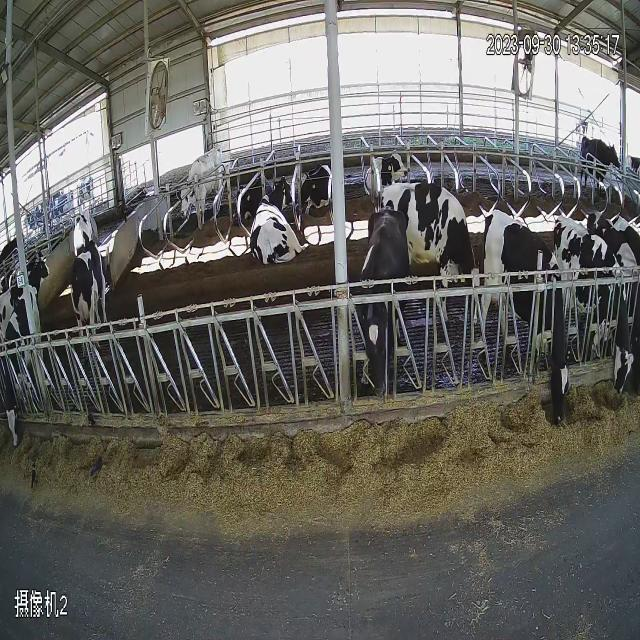feeding: (489, 209, 576, 424), (576, 224, 636, 410), (358, 199, 406, 415), (405, 171, 483, 301)
lying down: (254, 160, 304, 296), (362, 142, 410, 200)
standing: (172, 131, 228, 229), (69, 238, 121, 331)
